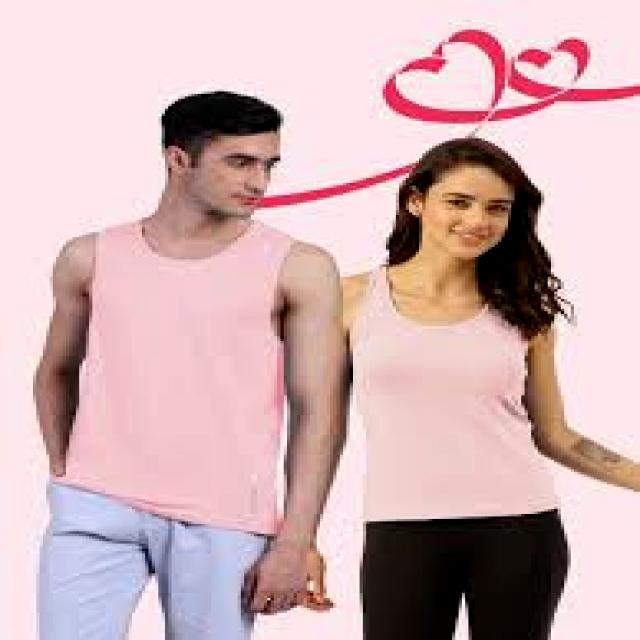face: (406, 166, 514, 259), (165, 131, 280, 217)
lower-wear: (40, 482, 267, 639), (363, 512, 567, 639)
top-wear: (57, 220, 293, 533), (350, 267, 557, 521)
